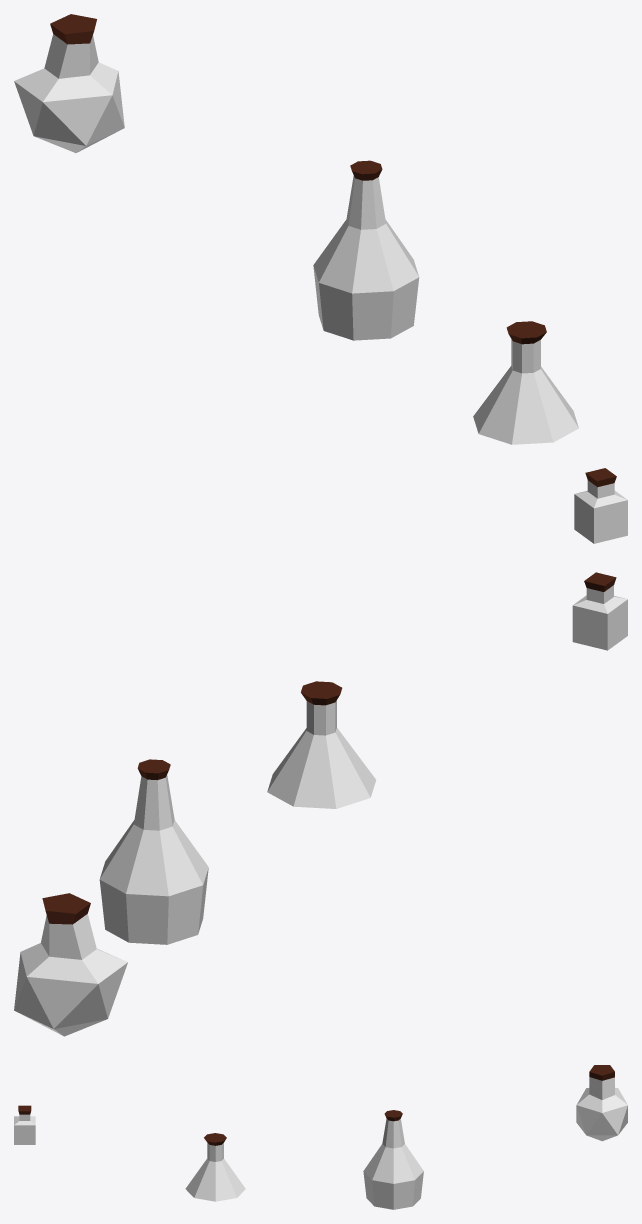
The model's file is Potions.fbx.
3 renders of one model, top to bottom at view 1: azimuth 30°, elevation 25°; view 2: azimuth 150°, elevation 25°; view 3: azimuth 270°, elevation 25°, orthographic. The views are drawn at different scales.
Visible parts, largest first — view 1: Cylinder, Icosphere, Cone, Cube; view 2: Cylinder, Icosphere, Cone, Cube; view 3: Cylinder, Icosphere, Cone, Cube.
Boxes of the visible parts, left/top/right/bottom form: Cylinder: left=313, top=160, right=419, bottom=340; Icosphere: left=14, top=14, right=124, bottom=152; Cone: left=473, top=321, right=578, bottom=444; Cube: left=574, top=468, right=627, bottom=543; Cylinder: left=99, top=759, right=208, bottom=944; Icosphere: left=14, top=893, right=127, bottom=1036; Cone: left=267, top=681, right=375, bottom=808; Cube: left=572, top=572, right=627, bottom=650; Cylinder: left=363, top=1110, right=423, bottom=1209; Icosphere: left=576, top=1065, right=627, bottom=1141; Cone: left=185, top=1133, right=245, bottom=1201; Cube: left=14, top=1105, right=35, bottom=1144.
Bounding box in the file's own units: 1.24 × 1.1 × 6.08.
